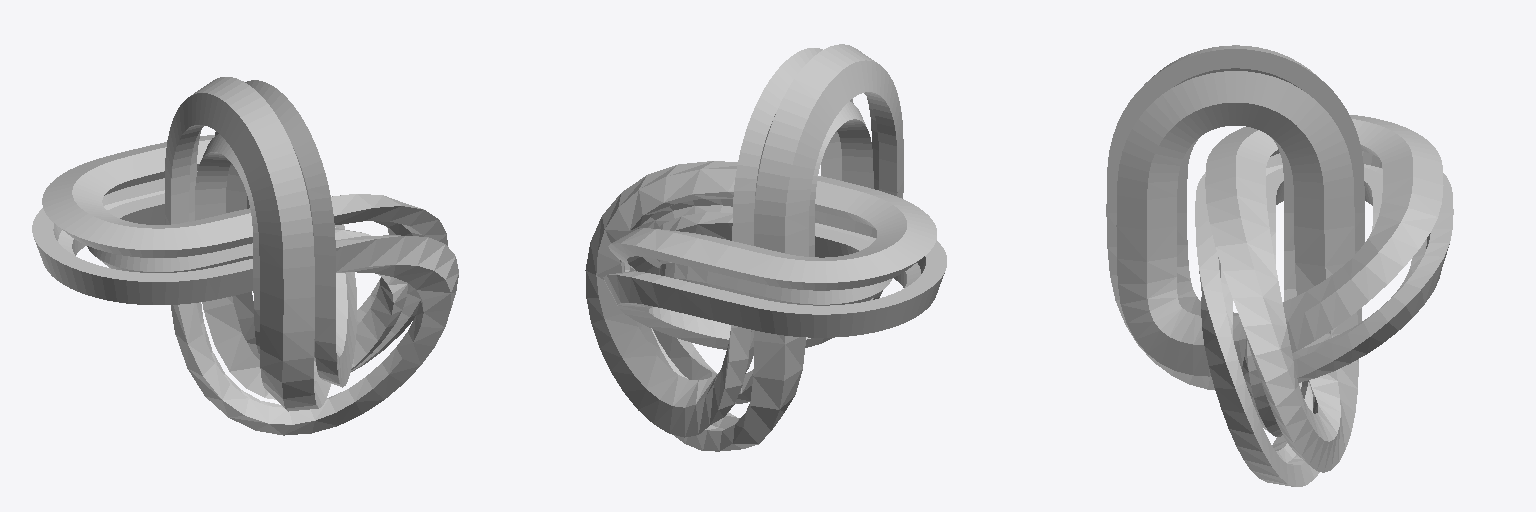
The model's file is escher_trefoil_knot_3D_rind_shape.obj.
3 renders of one model, left to right at view 1: azimuth 30°, elevation 25°; view 2: azimuth 150°, elevation 25°; view 3: azimuth 270°, elevation 25°, orthographic.
Visible parts, largest first — view 1: object_1; view 2: object_1; view 3: object_1.
Part boxes in pixels (bbox=[...]): object_1: bbox=[32, 77, 458, 435]; object_1: bbox=[585, 44, 946, 451]; object_1: bbox=[1106, 45, 1453, 486].
Bounding box in the file's own units: 24.48 × 24.48 × 19.92.